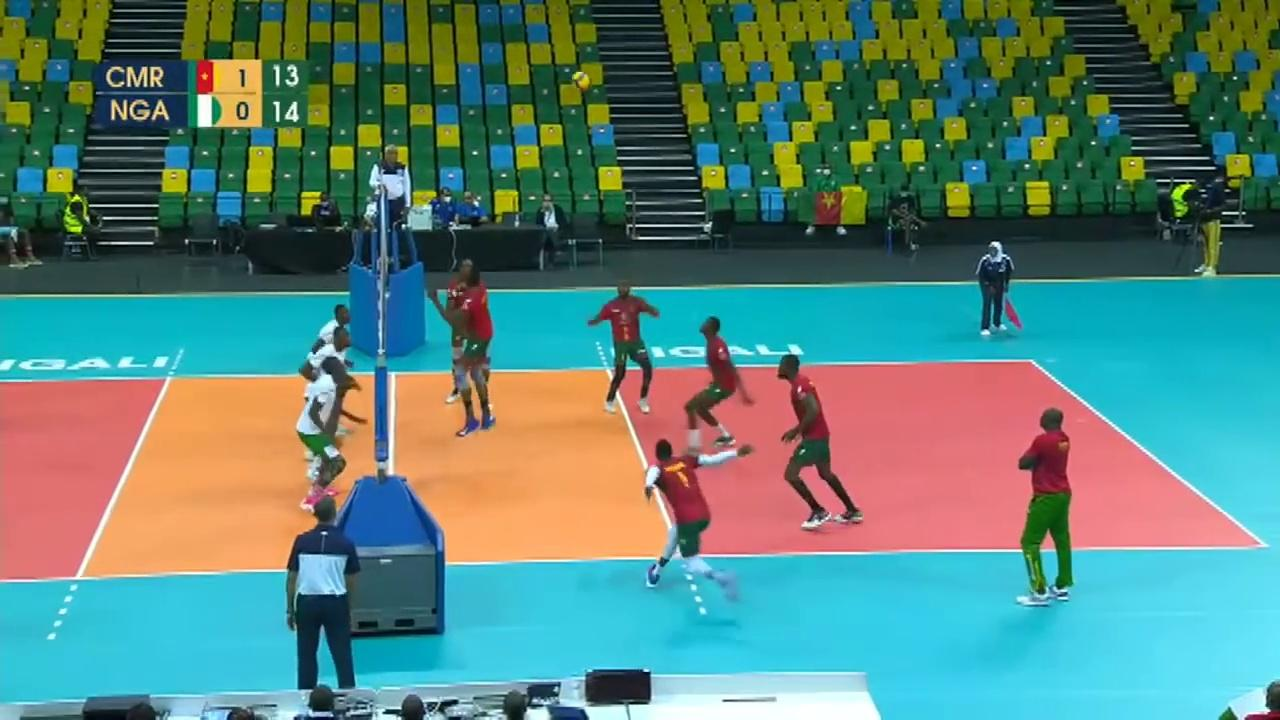player: (641, 436, 740, 618), (776, 351, 863, 528), (434, 270, 496, 434), (588, 284, 662, 411), (293, 359, 351, 513), (689, 319, 751, 460), (301, 331, 359, 478), (443, 260, 492, 402), (308, 303, 354, 437)
refree: (285, 492, 364, 706), (367, 144, 412, 255), (974, 241, 1021, 337)
